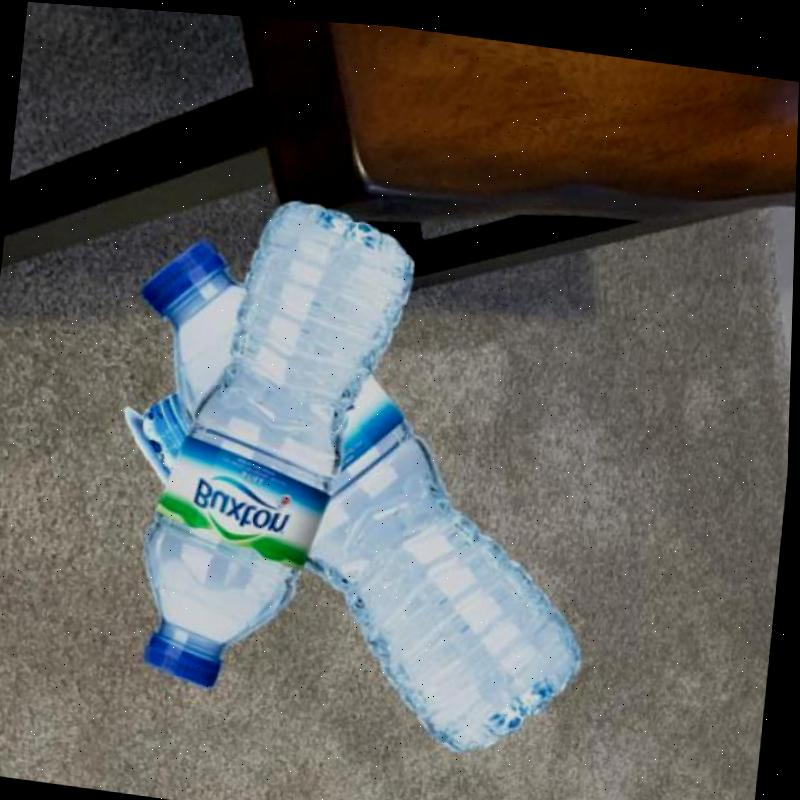botella: (103, 226, 623, 765), (135, 176, 422, 706), (136, 388, 201, 475)
